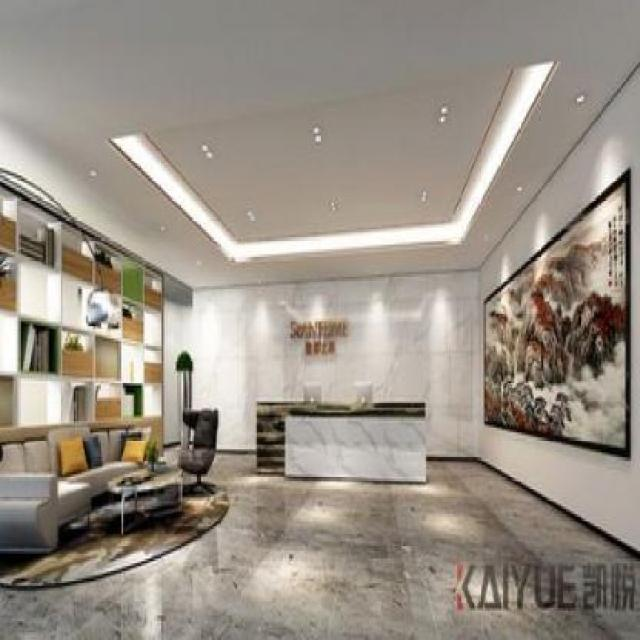frontdesk: (246, 390, 432, 492)
